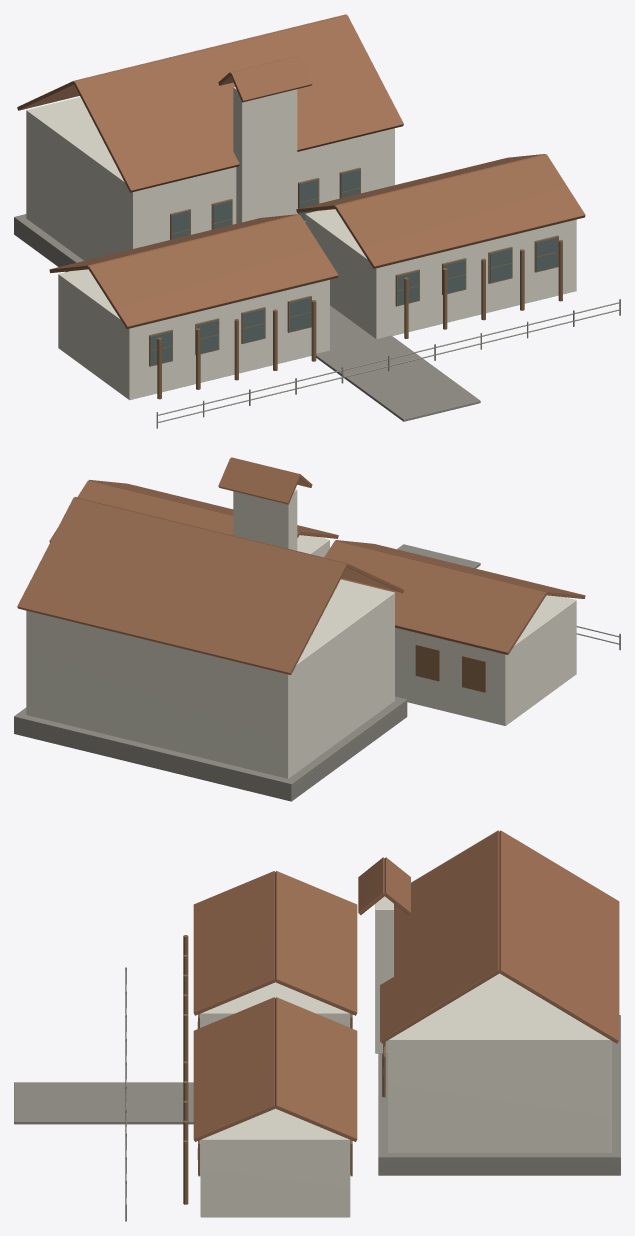
File: mission_protestante_baraka_site.glb
3 renders of one model, top to bottom at view 1: azimuth 30°, elevation 25°; view 2: azimuth 150°, elevation 25°; view 3: azimuth 270°, elevation 25°, orthographic. The views are drawn at different scales.
Visible parts, largest first — view 1: Toiture_eglise, Eglise_mission, Ecole_bloc_0, Toit_ecole.002, Toit_ecole, Ecole_bloc_1, Cheminement_cour, Clocher_tour, Toit_clocher, Toit_ecole.001, Toit_ecole.003, Socle_eglise (+11 smaller); view 2: Eglise_mission, Toiture_eglise.001, Ecole_bloc_0, Toit_ecole.001, Socle_eglise, Toit_ecole.003, Clocher_tour, Toit_clocher.001, Toit_ecole, Toit_ecole.002, Toiture_eglise, Fenetre_ecole_cadre.005 (+3 smaller); view 3: Eglise_mission, Toiture_eglise.001, Toiture_eglise, Ecole_bloc_1, Toit_ecole.001, Toit_ecole.002, Toit_ecole.003, Toit_ecole, Socle_eglise, Cheminement_cour, Ecole_bloc_0, Clocher_tour (+2 smaller).
Boxes of the visible parts, x1=… form: Toiture_eglise: x1=74, y1=15, x2=403, y2=192; Eglise_mission: x1=26, y1=97, x2=394, y2=260; Ecole_bloc_0: x1=58, y1=269, x2=329, y2=400; Toit_ecole.002: x1=335, y1=154, x2=585, y2=268; Toit_ecole: x1=88, y1=215, x2=338, y2=328; Ecole_bloc_1: x1=305, y1=209, x2=576, y2=338; Cheminement_cour: x1=316, y1=305, x2=480, y2=421; Clocher_tour: x1=233, y1=87, x2=297, y2=223; Toit_clocher: x1=230, y1=56, x2=312, y2=102; Toit_ecole.001: x1=49, y1=214, x2=299, y2=273; Toit_ecole.003: x1=296, y1=154, x2=546, y2=212; Socle_eglise: x1=14, y1=214, x2=83, y2=272; Eglise_mission: x1=26, y1=579, x2=394, y2=778; Toiture_eglise.001: x1=17, y1=497, x2=347, y2=674; Ecole_bloc_0: x1=395, y1=595, x2=576, y2=725; Toit_ecole.001: x1=324, y1=540, x2=546, y2=654; Socle_eglise: x1=14, y1=696, x2=407, y2=801; Toit_ecole.003: x1=49, y1=480, x2=299, y2=542; Clocher_tour: x1=233, y1=489, x2=297, y2=550; Toit_clocher.001: x1=218, y1=458, x2=299, y2=504; Toit_ecole: x1=335, y1=540, x2=585, y2=598; Toit_ecole.002: x1=89, y1=479, x2=338, y2=538; Toiture_eglise: x1=74, y1=497, x2=403, y2=593; Fenetre_ecole_cadre.005: x1=415, y1=644, x2=439, y2=681; Eglise_mission: x1=387, y1=973, x2=611, y2=1152; Toiture_eglise.001: x1=499, y1=830, x2=619, y2=1043; Toiture_eglise: x1=380, y1=830, x2=499, y2=1043; Ecole_bloc_1: x1=200, y1=1108, x2=350, y2=1217; Toit_ecole.001: x1=275, y1=871, x2=357, y2=1015; Toit_ecole.002: x1=193, y1=997, x2=275, y2=1141; Toit_ecole.003: x1=275, y1=997, x2=357, y2=1141; Toit_ecole: x1=193, y1=871, x2=275, y2=1015; Socle_eglise: x1=378, y1=1015, x2=620, y2=1175; Cheminement_cour: x1=14, y1=1082, x2=193, y2=1124; Ecole_bloc_0: x1=200, y1=982, x2=350, y2=1027; Clocher_tour: x1=375, y1=896, x2=393, y2=1053.
Size of the model in its own units: 30.09 by 13.57 by 32.5.
